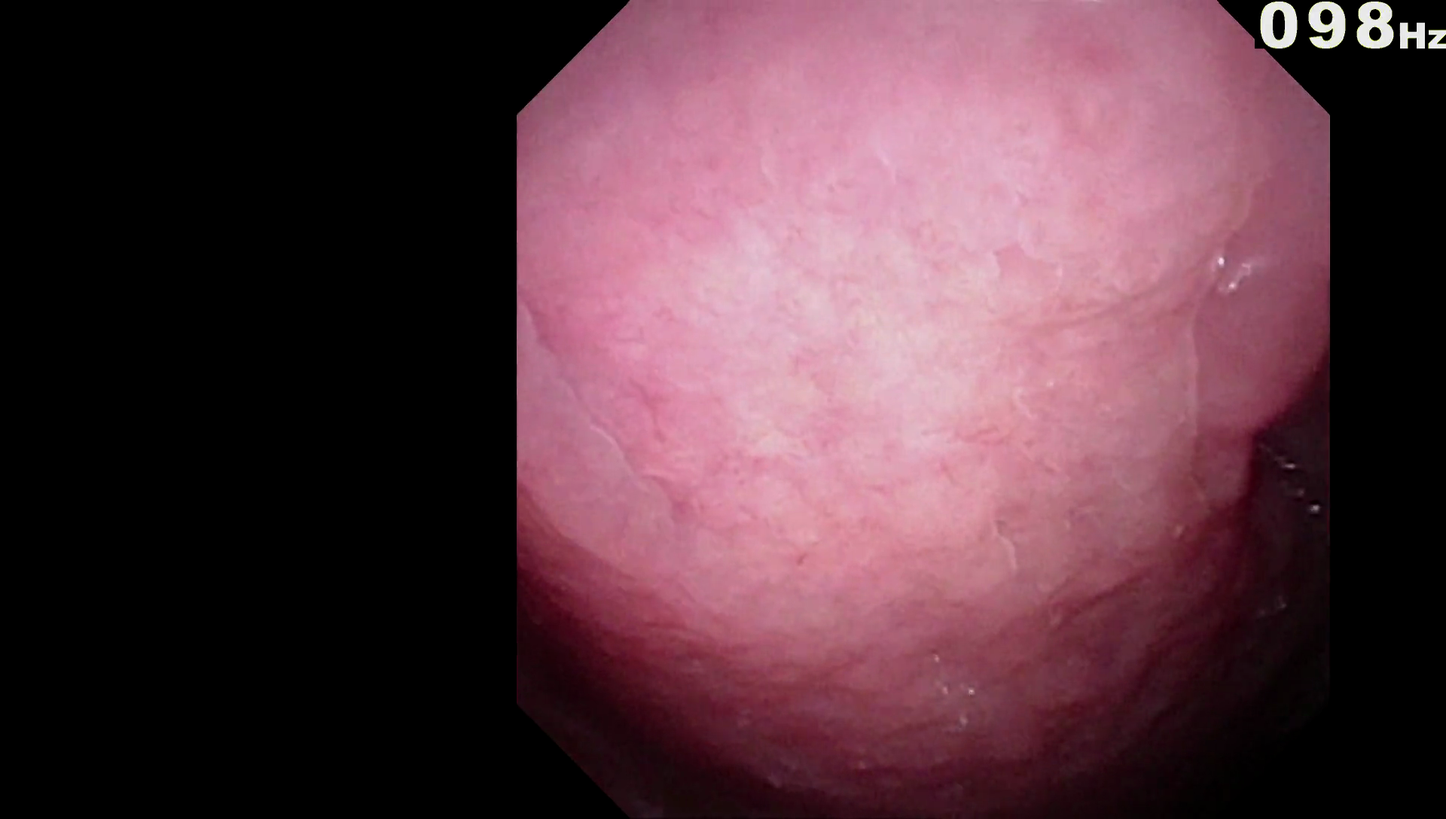close_wall: (590, 56, 1254, 727)
next: (538, 570, 779, 814), (1052, 561, 1299, 775), (1205, 357, 1321, 632)
